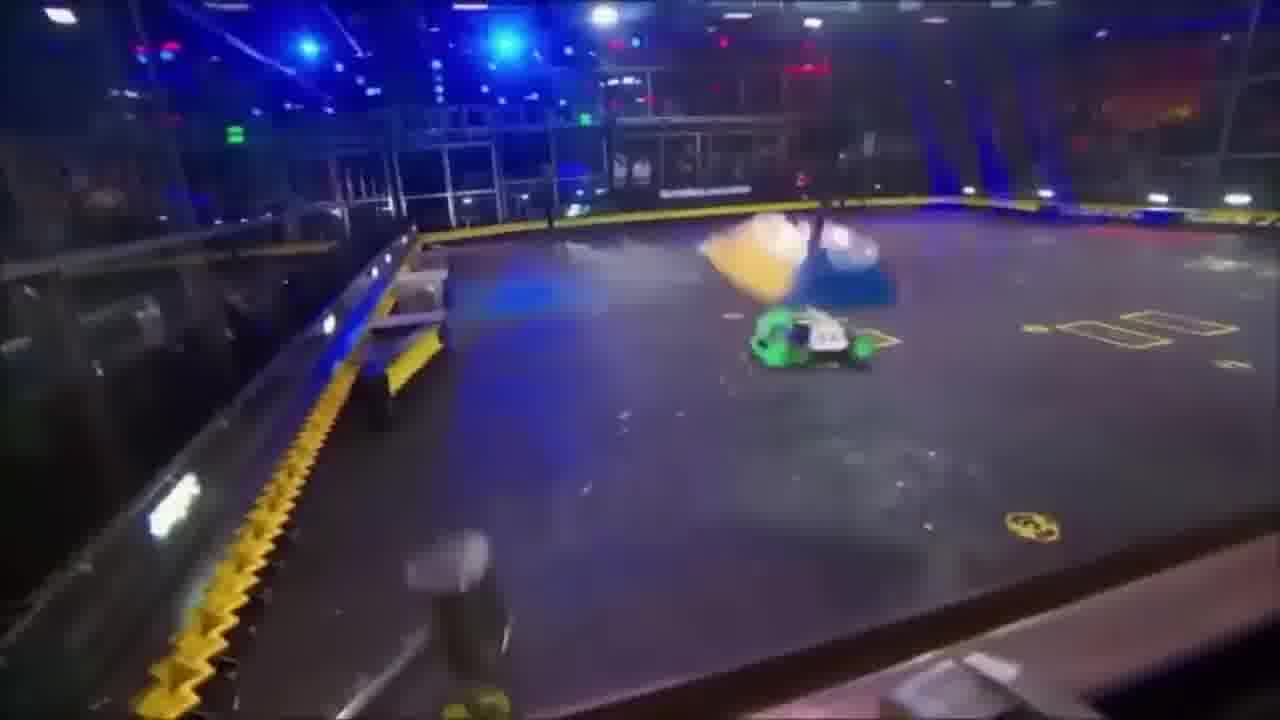combatbot: (700, 210, 893, 300), (745, 305, 871, 373)
